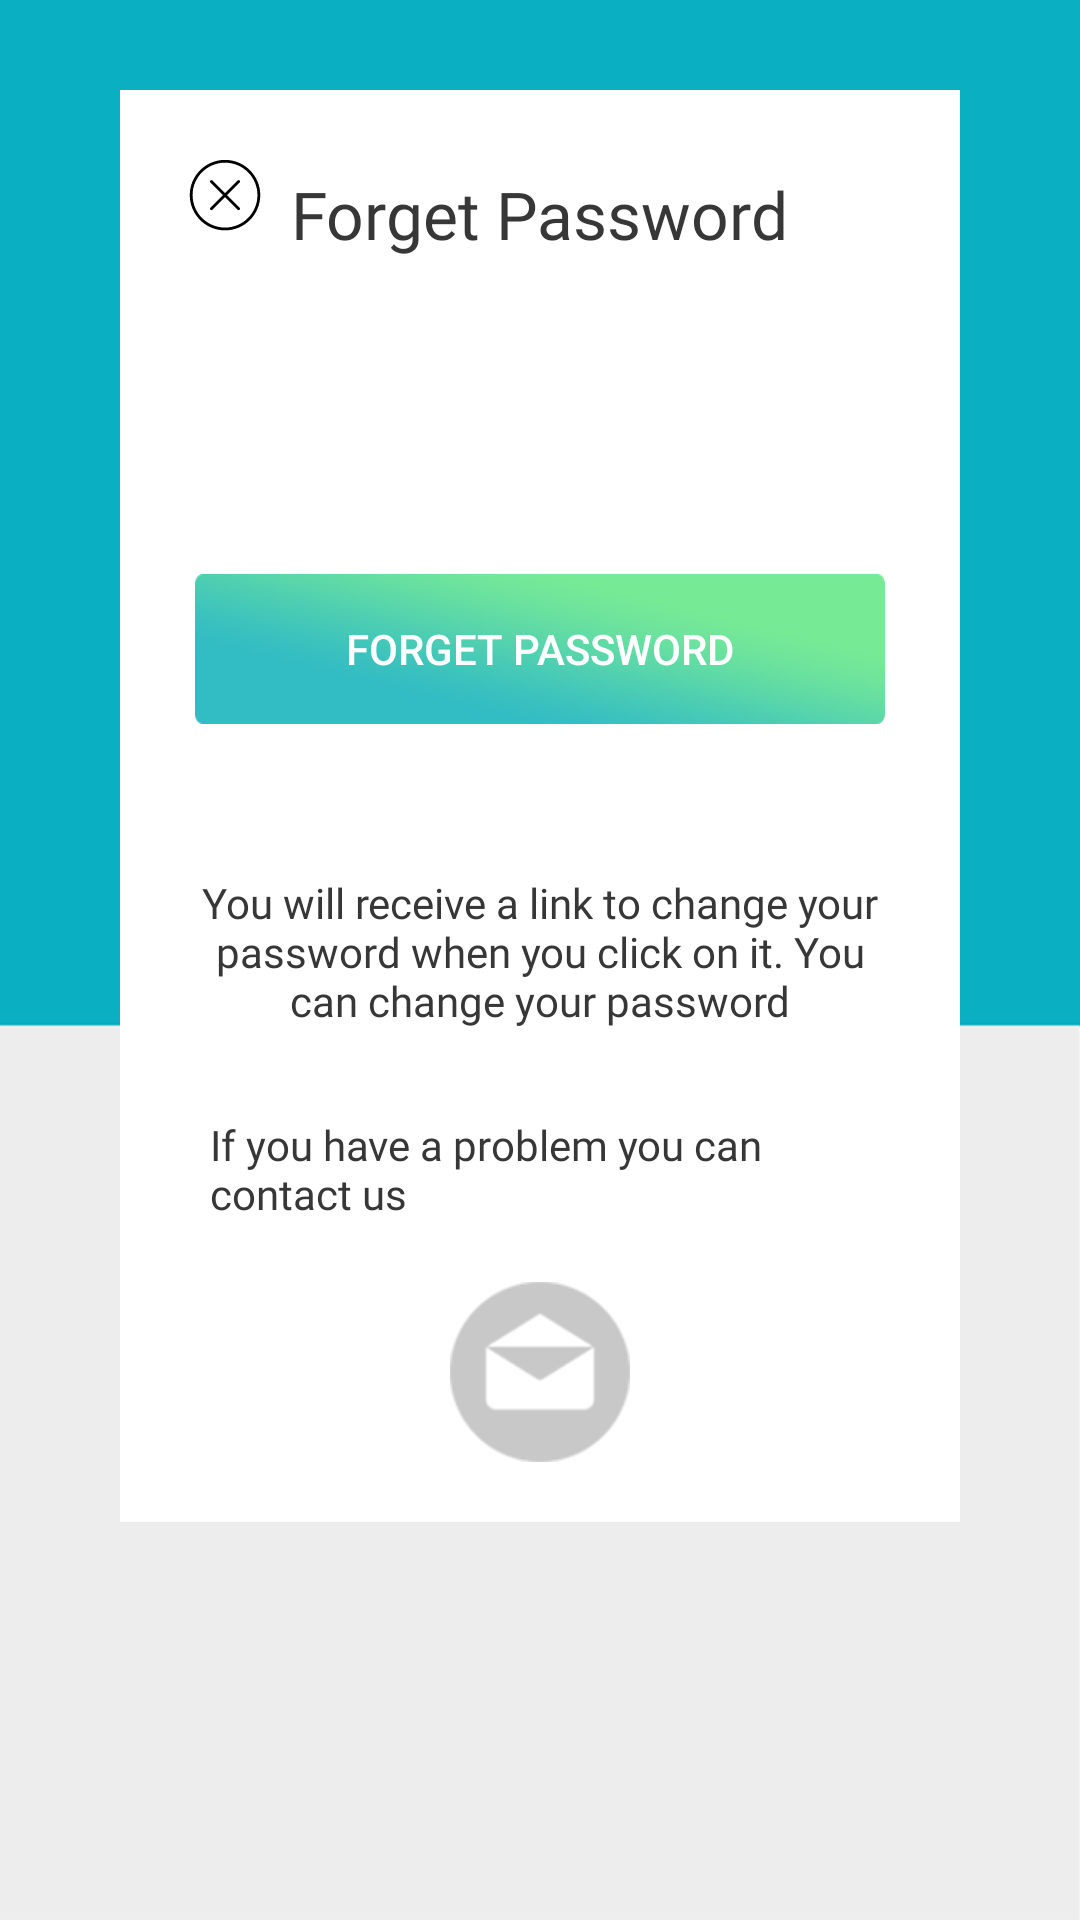

Icons on this 1080×1920 Android screen, each with its box as (x1, y1, x2, y2):
circle close: (189, 160, 261, 231)
